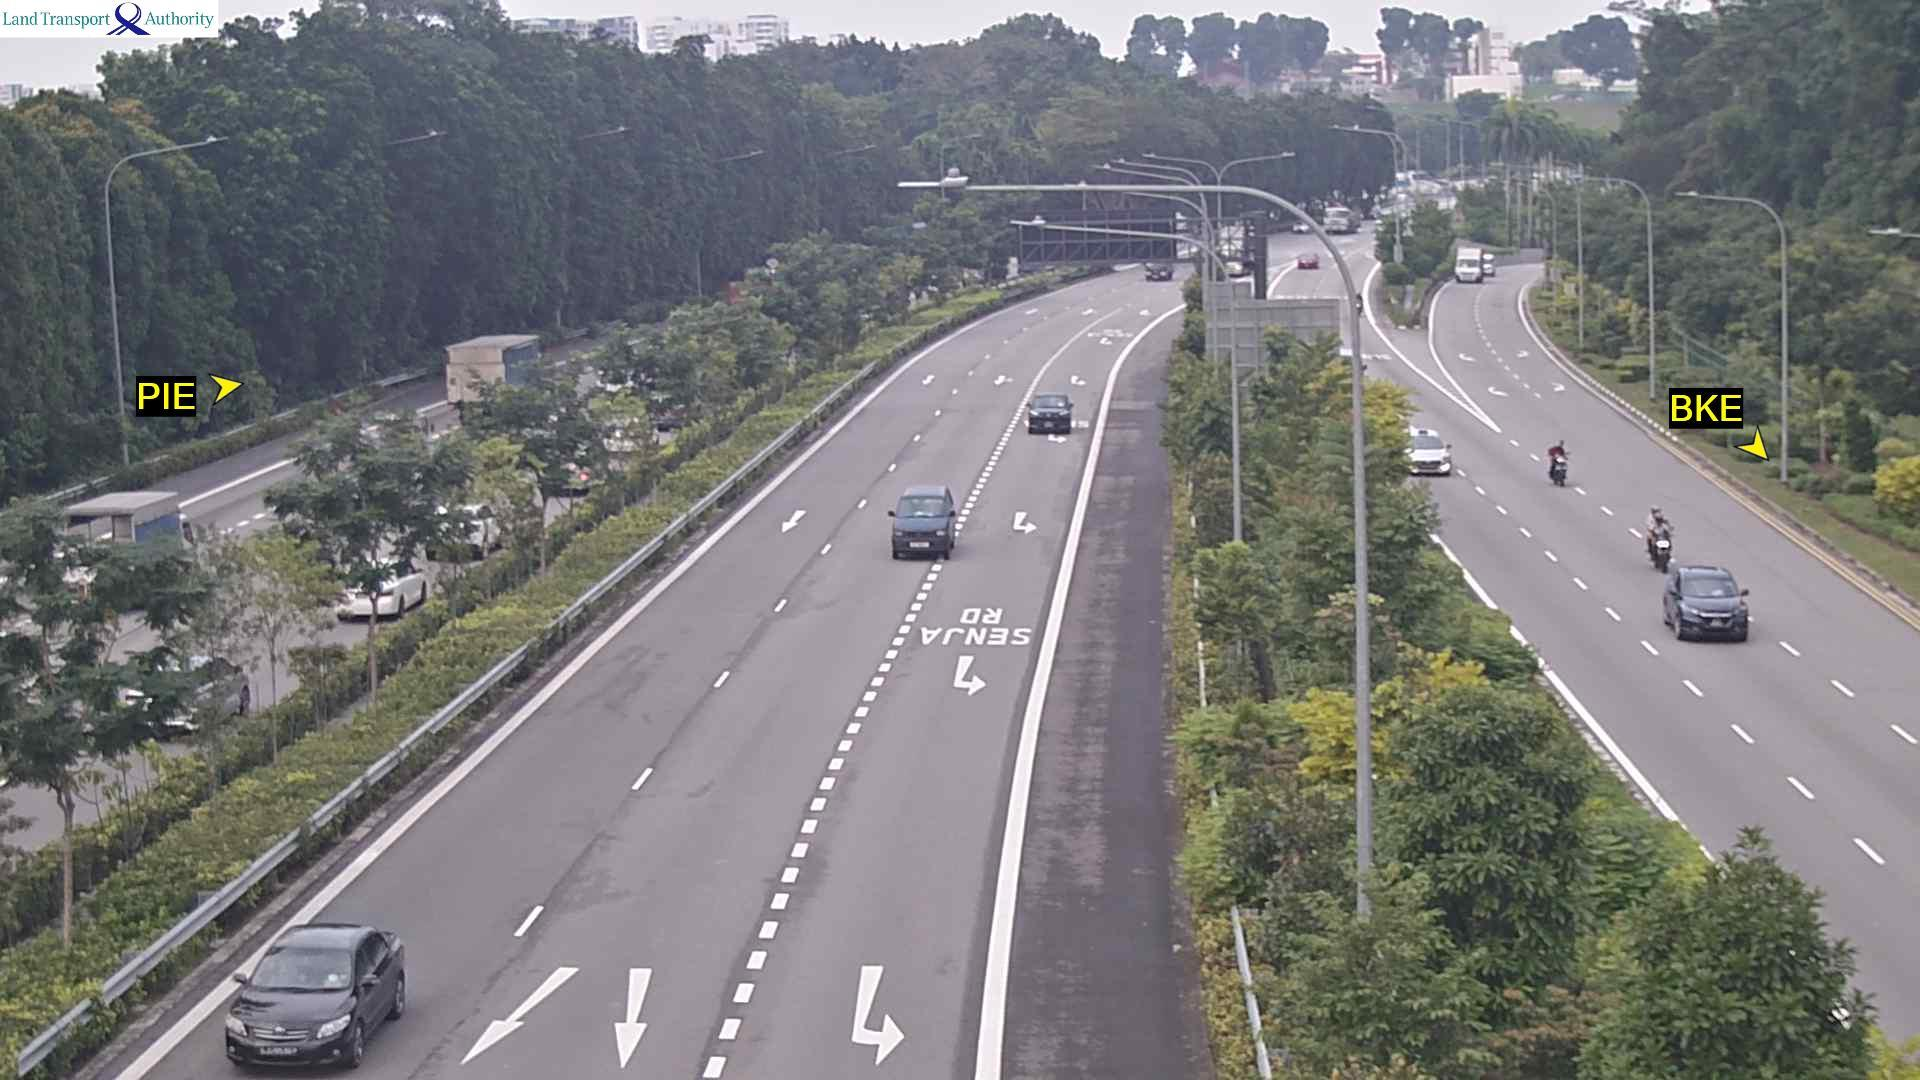cars: (223, 921, 406, 1069), (121, 647, 250, 738), (1660, 563, 1749, 642), (334, 556, 428, 621), (887, 484, 956, 559), (425, 501, 501, 560), (1402, 425, 1452, 475), (598, 415, 656, 454), (1026, 392, 1072, 434), (653, 404, 685, 430), (1143, 259, 1173, 280), (1222, 257, 1248, 276), (1480, 250, 1495, 277), (1296, 252, 1318, 269), (1292, 222, 1309, 233)
motorcycle: (1645, 523, 1673, 571), (1547, 449, 1569, 486)
trucks: (45, 492, 215, 603), (435, 328, 567, 423), (1453, 245, 1482, 282), (1322, 205, 1359, 233)
